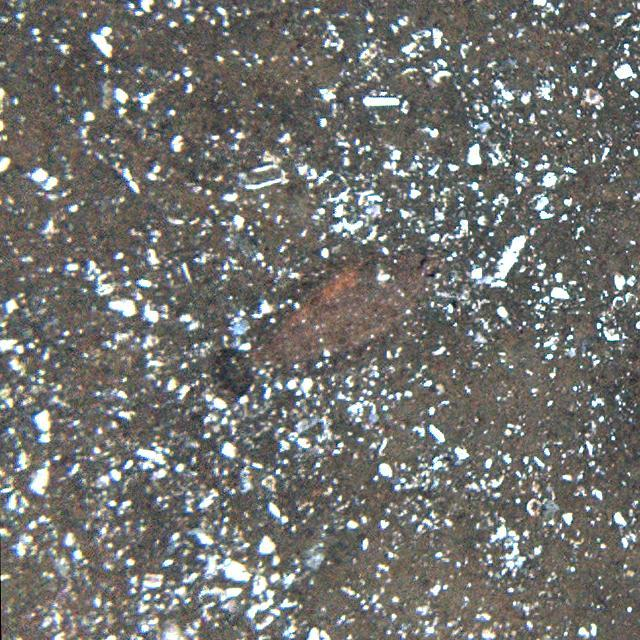flatfish: (218, 247, 428, 392)
